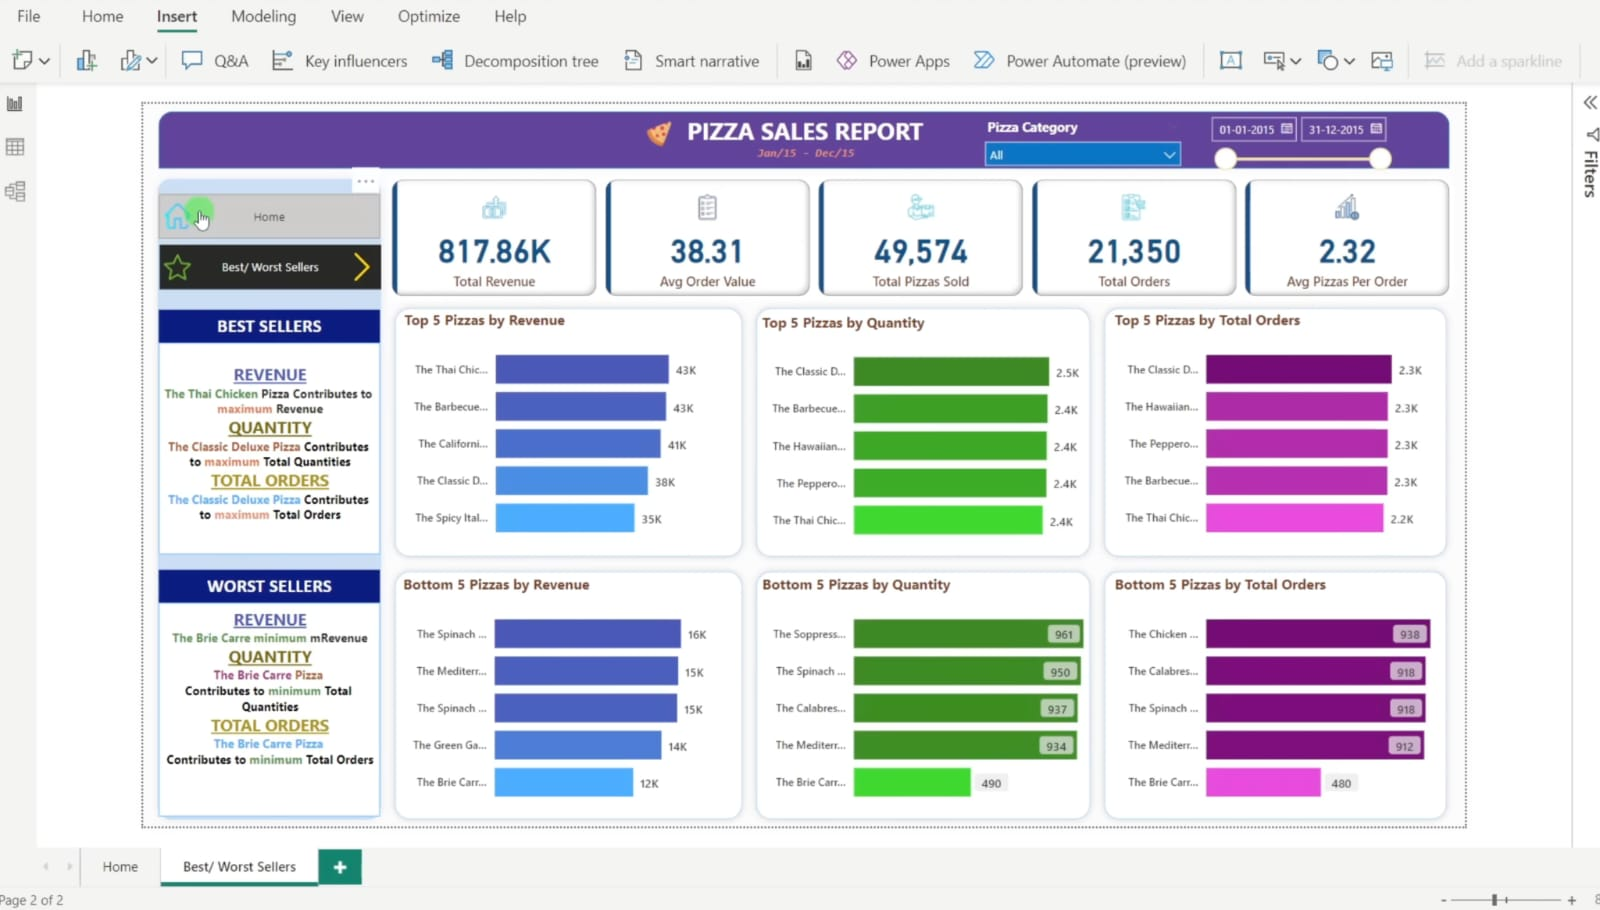

This screenshot's page, from the dashboard's own definition file:
{"tool":"powerbi","page":{"name":"Best/Worst Sellers","canvas":[1500,820],"ordinal":1},"visuals":[{"type":"cardVisual","fields":{"Data":["pizza_sales.Total Revenue"]},"box":[321.7,105,243.3,196.7],"z":0},{"type":"cardVisual","fields":{"Data":["pizza_sales.total Pizzas Sold"]},"box":[791.7,106.7,188.3,195],"z":1000},{"type":"cardVisual","fields":{"Data":["pizza_sales.Average Order Value"]},"box":[553.3,105,246.7,196.7],"z":2000},{"type":"cardVisual","fields":{"Data":["pizza_sales.Avg Pizza Per Order"]},"box":[1163.3,106.7,215,195],"z":3000},{"type":"cardVisual","fields":{"Data":["pizza_sales.Total Orders"]},"box":[968.3,106.7,206.7,195],"z":4000},{"type":"shape","box":[36.7,0,1460,95],"z":5000},{"type":"textbox","box":[641.7,16.7,315,48.3],"z":6000},{"type":"textbox","box":[735,55,130,35],"z":7000},{"type":"shape","box":[335,303.3,341.7,251.7],"z":8000},{"type":"shape","box":[335,570,341.7,250],"z":9000},{"type":"shape","box":[676.7,570,341.7,250],"z":10000},{"type":"shape","box":[1018.3,570,361.7,250],"z":11000},{"type":"shape","box":[36.7,106.7,290,713.3],"z":12000},{"type":"textbox","box":[41.7,220,278.3,33.3],"z":13000},{"type":"textbox","box":[41.7,253.3,278.3,276.7],"z":14000},{"type":"textbox","box":[41.7,563.3,278.3,256.7],"z":15000},{"type":"textbox","box":[41.7,530,278.3,33.3],"z":16000},{"type":"slicer","fields":{"Values":["pizza_sales.pizza_category"]},"box":[1001.7,16.7,226.7,63.3],"z":17000},{"type":"slicer","fields":{"Values":["pizza_sales.order_date"]},"box":[1245,5,226.7,100],"z":18000},{"type":"shape","box":[675,303.3,341.7,250],"z":19000},{"type":"shape","box":[1016.7,301.7,361.7,251.7],"z":20000},{"type":"barChart","title":"Top 5 pizza by Revenue","fields":{"Category":["pizza_sales.pizza_name"],"Y":["pizza_sales.Total Revenue"]},"box":[350,318.3,313.3,223.3],"z":21000},{"type":"barChart","title":"Bottom 5 pizza by Revenue","fields":{"Category":["pizza_sales.pizza_name"],"Y":["pizza_sales.Total Revenue"]},"box":[350,583.3,313.3,223.3],"z":22000},{"type":"barChart","title":"Top 5 pizza by Quantity","fields":{"Category":["pizza_sales.pizza_name"],"Y":["pizza_sales.total Pizzas Sold"]},"box":[688.3,318.3,313.3,223.3],"z":23000},{"type":"barChart","title":"Bottom 5 pizza by Quantity","fields":{"Category":["pizza_sales.pizza_name"],"Y":["pizza_sales.total Pizzas Sold"]},"box":[691.7,586.7,313.3,223.3],"z":24000},{"type":"barChart","title":"Top 5 sold pizza by Total Order","fields":{"Category":["pizza_sales.pizza_name"],"Y":["pizza_sales.Total Orders"]},"box":[1031.7,313.3,326.7,228.3],"z":25000},{"type":"barChart","title":"Bottom 5 pizza sold by Total Order","fields":{"Category":["pizza_sales.pizza_name"],"Y":["pizza_sales.Total Orders"]},"box":[1035,586.7,326.7,220],"z":26000},{"type":"pageNavigator","box":[41.7,106.7,278.3,41.7],"z":27000},{"type":"pageNavigator","box":[41.7,161.7,278.3,41.7],"z":28000},{"type":"image","box":[143.3,166.7,300,31.7],"z":29000},{"type":"image","box":[23.3,106.7,80,43.3],"z":30000},{"type":"image","box":[0,166.7,116.7,33.3],"z":31000}]}

Visuals, with their boxes on the page's 1500x820 design canvas (x1, y1, x2, y2). These are canvas units, not pixel positions in the 1600x910 screenshot, which may show the page scaled, cropped or inside an application window:
cardVisual - pizza_sales.Total Revenue: l=322, t=105, r=565, b=302
cardVisual - pizza_sales.total Pizzas Sold: l=792, t=107, r=980, b=302
cardVisual - pizza_sales.Average Order Value: l=553, t=105, r=800, b=302
cardVisual - pizza_sales.Avg Pizza Per Order: l=1163, t=107, r=1378, b=302
cardVisual - pizza_sales.Total Orders: l=968, t=107, r=1175, b=302
shape: l=37, t=0, r=1497, b=95
textbox: l=642, t=17, r=957, b=65
textbox: l=735, t=55, r=865, b=90
shape: l=335, t=303, r=677, b=555
shape: l=335, t=570, r=677, b=820
shape: l=677, t=570, r=1018, b=820
shape: l=1018, t=570, r=1380, b=820
shape: l=37, t=107, r=327, b=820
textbox: l=42, t=220, r=320, b=253
textbox: l=42, t=253, r=320, b=530
textbox: l=42, t=563, r=320, b=820
textbox: l=42, t=530, r=320, b=563
slicer - pizza_sales.pizza_category: l=1002, t=17, r=1228, b=80
slicer - pizza_sales.order_date: l=1245, t=5, r=1472, b=105
shape: l=675, t=303, r=1017, b=553
shape: l=1017, t=302, r=1378, b=553
"Top 5 pizza by Revenue" barChart: l=350, t=318, r=663, b=542
"Bottom 5 pizza by Revenue" barChart: l=350, t=583, r=663, b=807
"Top 5 pizza by Quantity" barChart: l=688, t=318, r=1002, b=542
"Bottom 5 pizza by Quantity" barChart: l=692, t=587, r=1005, b=810
"Top 5 sold pizza by Total Order" barChart: l=1032, t=313, r=1358, b=542
"Bottom 5 pizza sold by Total Order" barChart: l=1035, t=587, r=1362, b=807
pageNavigator: l=42, t=107, r=320, b=148
pageNavigator: l=42, t=162, r=320, b=203
image: l=143, t=167, r=443, b=198
image: l=23, t=107, r=103, b=150
image: l=0, t=167, r=117, b=200
